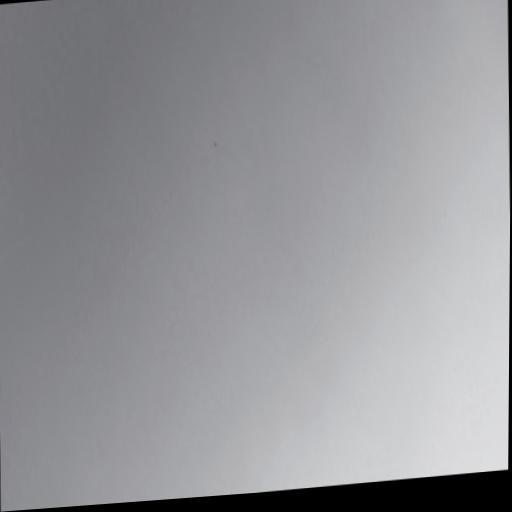drones: (213, 140, 218, 149)
